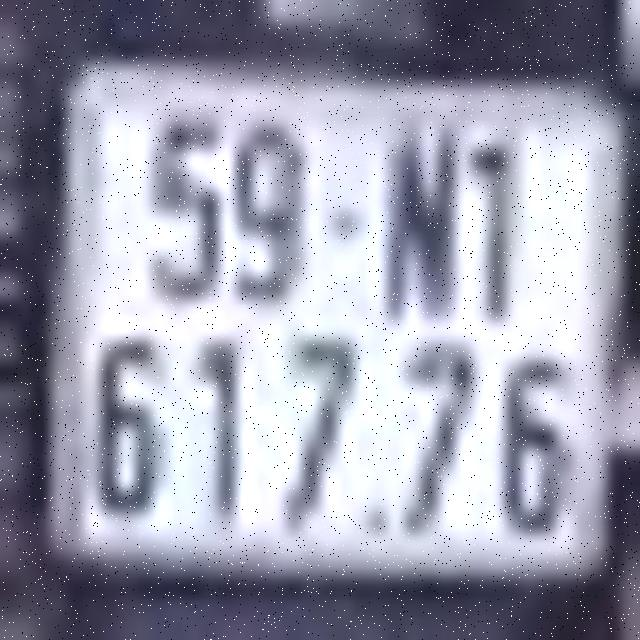1: (194, 334, 244, 528), (468, 138, 515, 323)
5: (147, 114, 224, 302)
6: (96, 332, 164, 521), (502, 354, 570, 536)
7: (277, 332, 357, 537), (399, 342, 475, 537)
9: (232, 122, 305, 305)
N: (383, 121, 458, 321)
